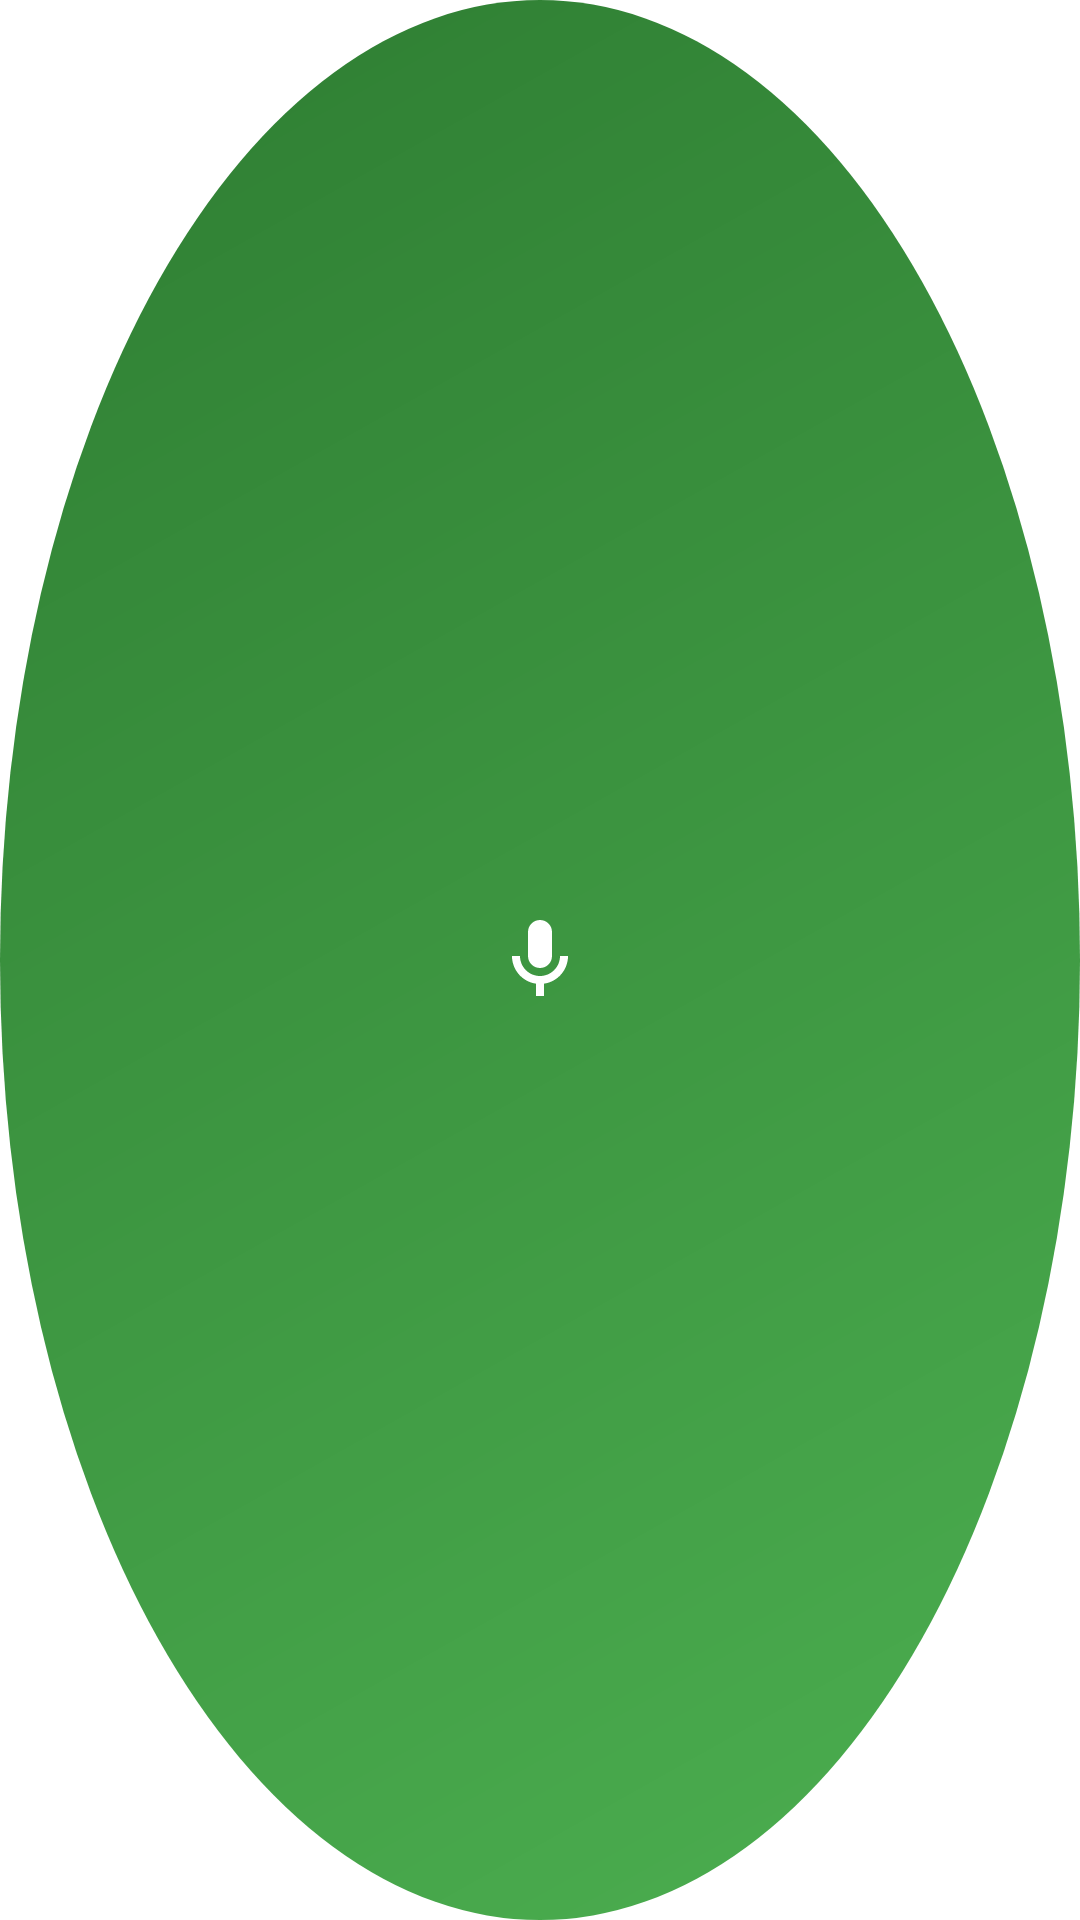

Point at icon controls on the screen. Image size 1080 × 1920, points as (x,y).
Meeting Listener Bubble: (540,958)
